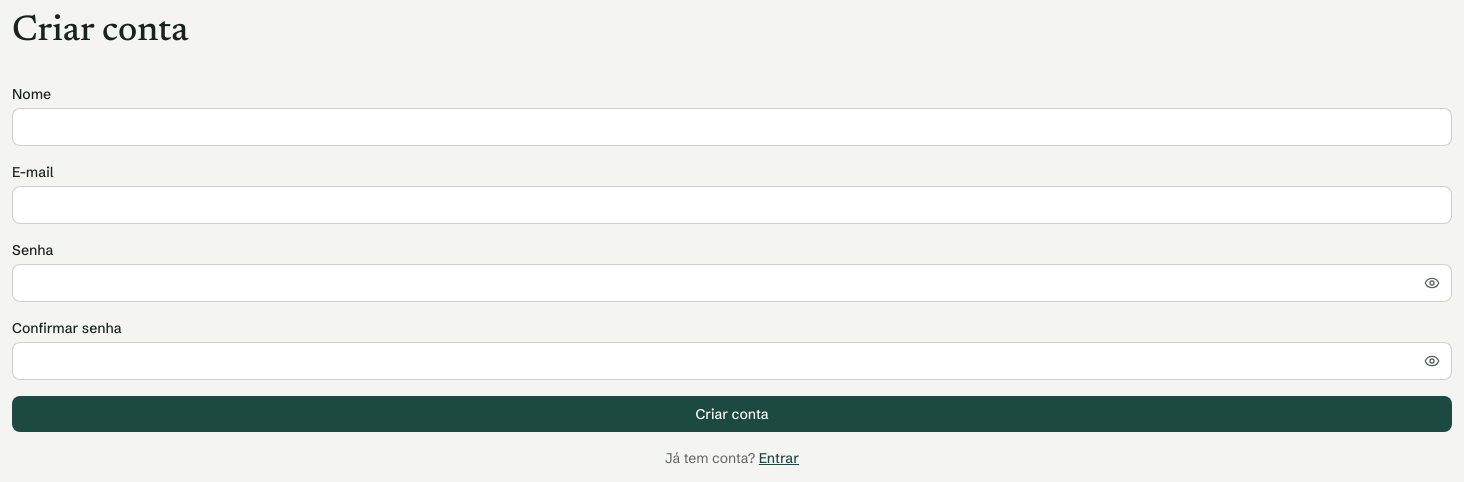
Scenario: RegisterPage › asks the person to confirm their e-mail instead of sending them into the app
This screenshot has width=1464, height=482.
Type "Ana" into the field labelled "Nome" at (732, 127), box [12, 108, 1452, 146]
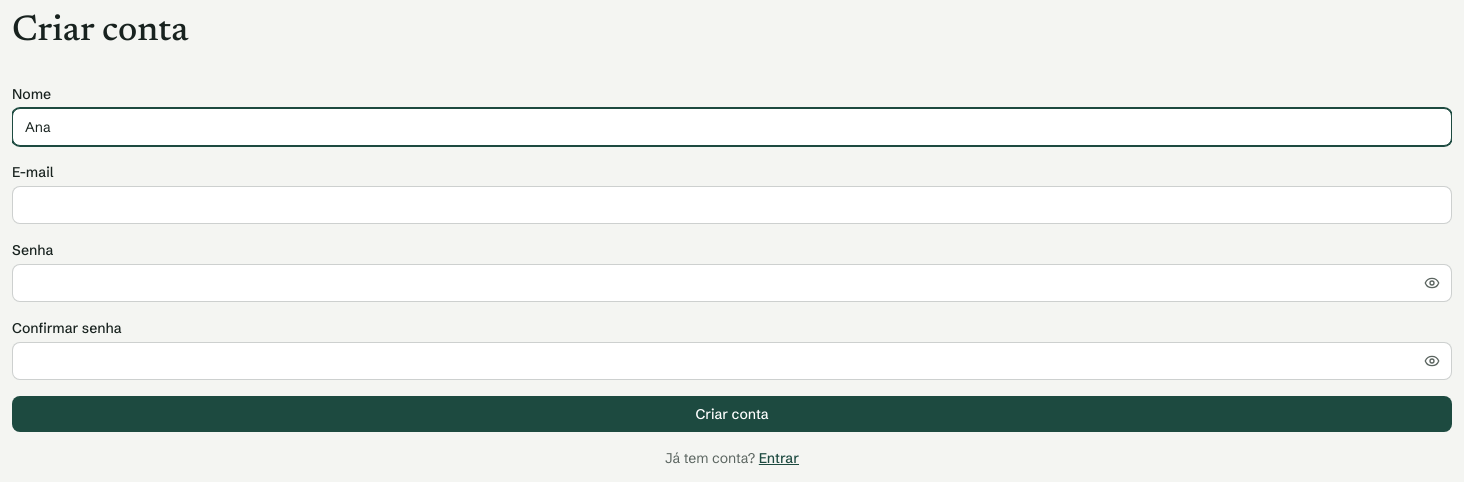
Type "ana@example.com" into the field labelled "E-mail" at (732, 205), box [12, 186, 1452, 224]
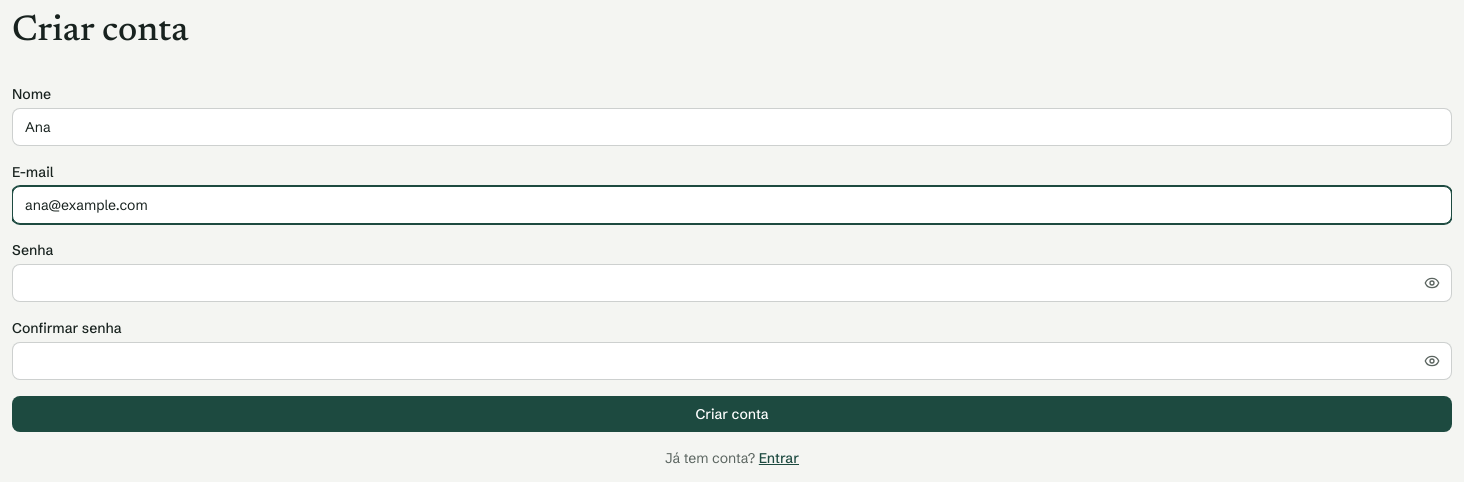
Type "SenhaForte123" into the password field labelled "Senha" at (732, 283), box [12, 264, 1452, 302]
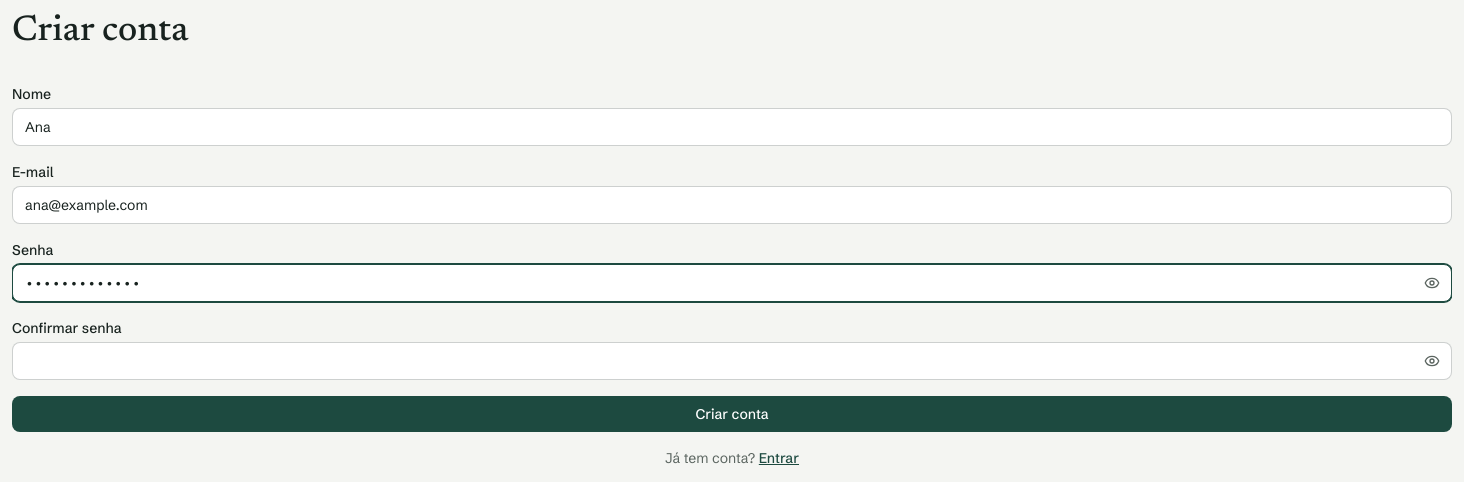
Type "SenhaForte123" into the password field labelled "Confirmar senha" at (732, 361), box [12, 342, 1452, 380]
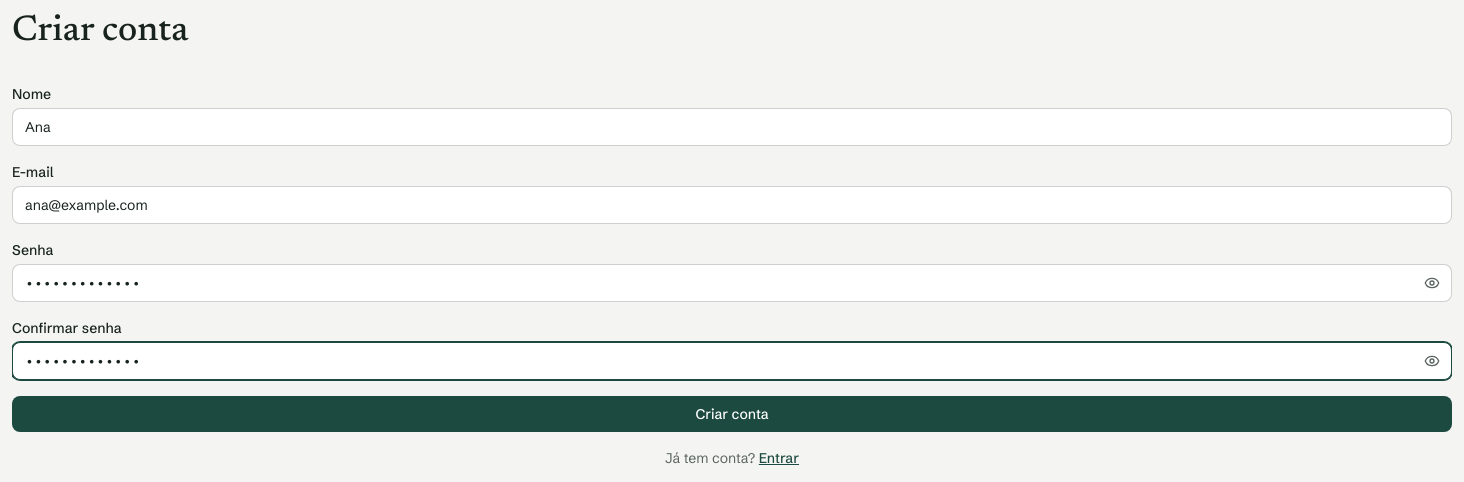
Click the button "Criar conta" at (732, 414), box [12, 396, 1452, 432]
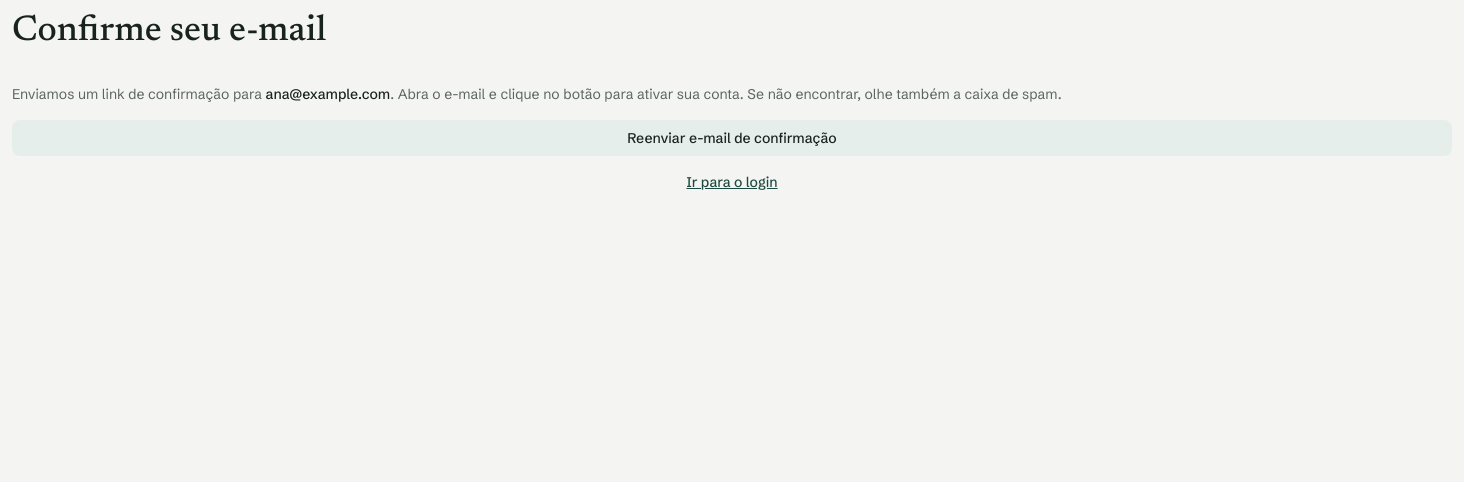
Result: the heading "Confirme seu e-mail" is shown at [12, 14, 326, 50]
Result: the text "ana@example.com" is shown at [266, 85, 390, 103]
Result: the button "Reenviar e-mail de confirmação" is shown at [12, 120, 1452, 156]
